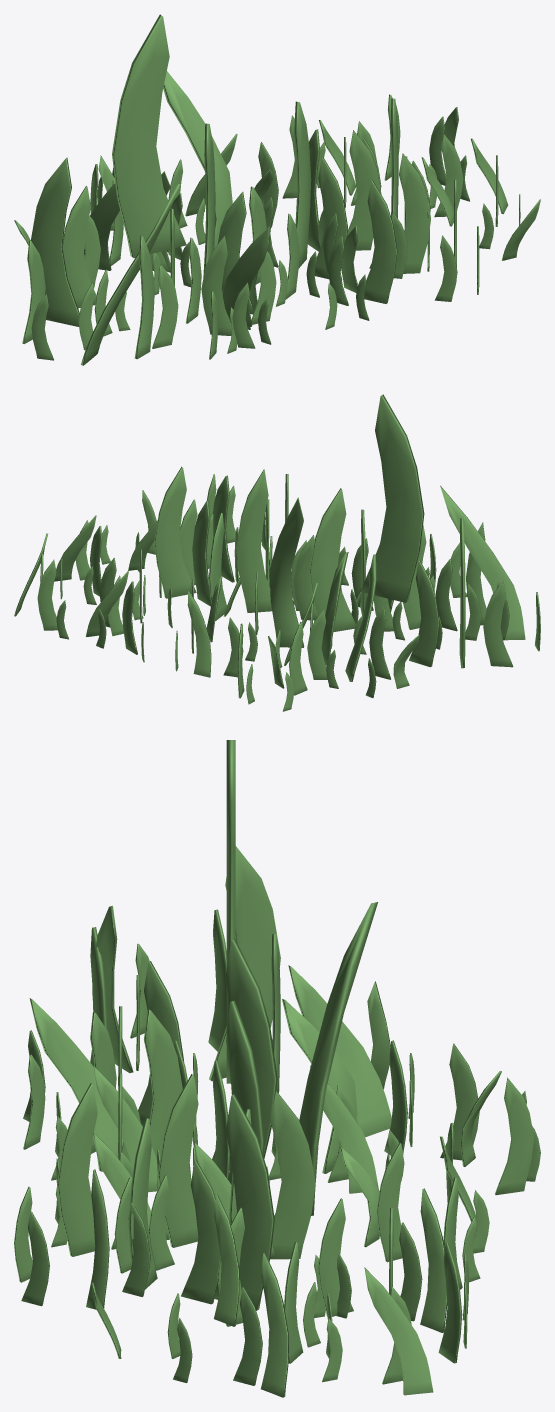
The model's file is grasspatch.fbx.
3 renders of one model, top to bottom at view 1: azimuth 30°, elevation 25°; view 2: azimuth 150°, elevation 25°; view 3: azimuth 270°, elevation 25°, orthographic. The views are drawn at different scales.
Visible parts, largest first — view 1: pCube104; view 2: pCube104; view 3: pCube104.
Part boxes in pixels (x1,y1,x2,y2): pCube104: (14, 14, 540, 365); pCube104: (14, 394, 540, 711); pCube104: (14, 740, 540, 1397).
Bounding box in the file's own units: 2.39 × 1.29 × 1.49.
